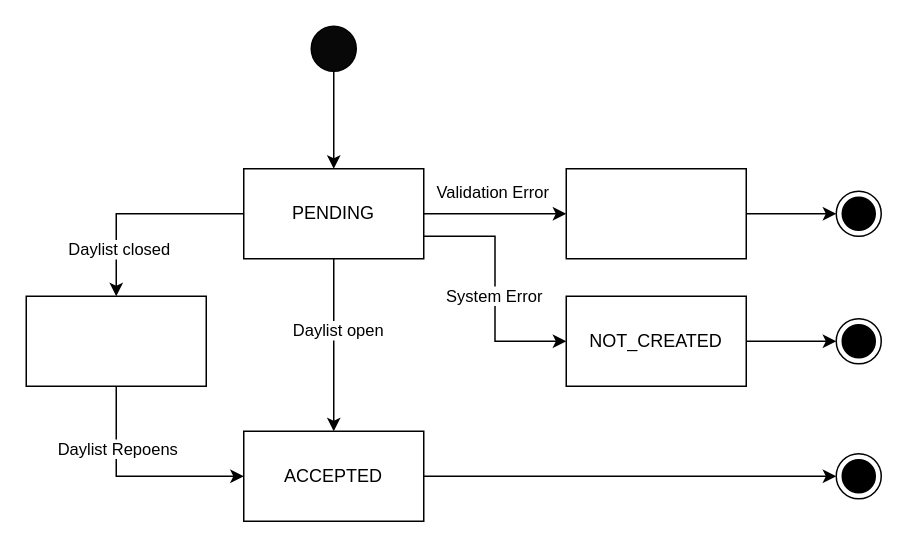
Some shapes in this 908 by 548 pixel diagram are drawn without their labels. The shapes that lost their labels are listed below. From the top down, each one's centre as x and y in pixels, then its label:
At (655,213): "NOT_ACCEPTED".
At (115,340): "QUEUED_OUT_ OF_HOURS".
